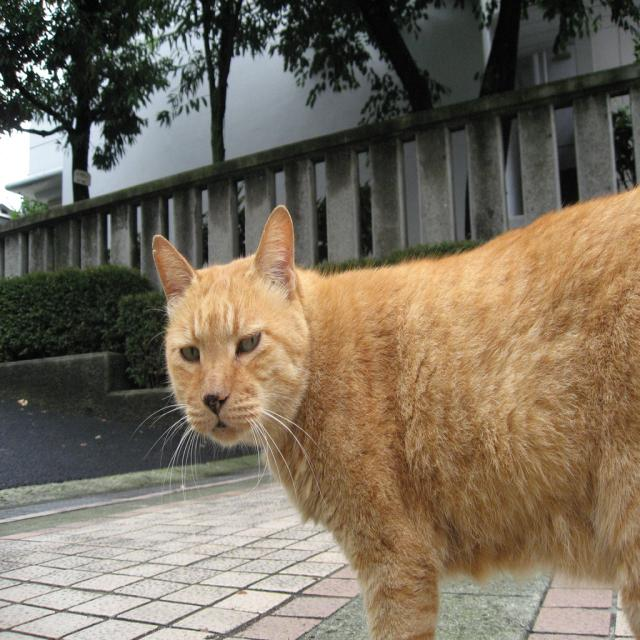cat: (134, 185, 640, 639)
